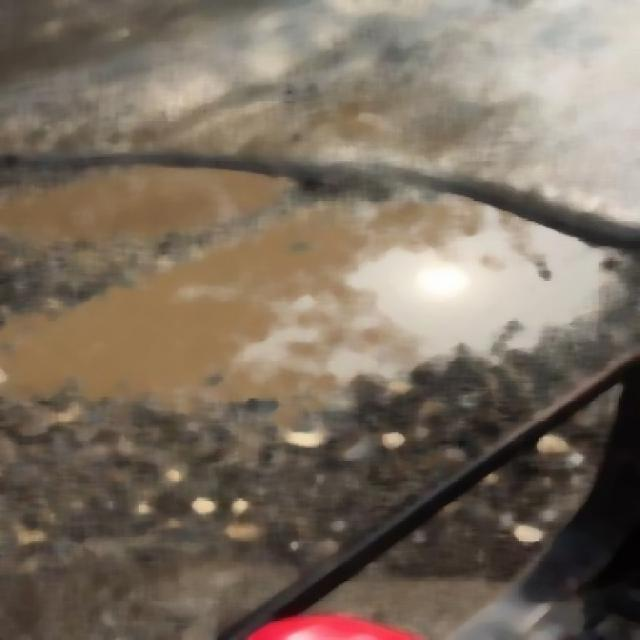pothole: (1, 201, 634, 392)
